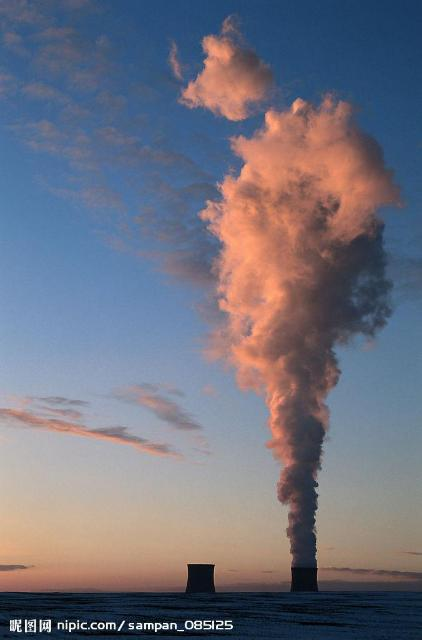smoke: (217, 125, 388, 247), (203, 248, 359, 359), (264, 364, 333, 492), (184, 34, 278, 121), (279, 497, 320, 569)
